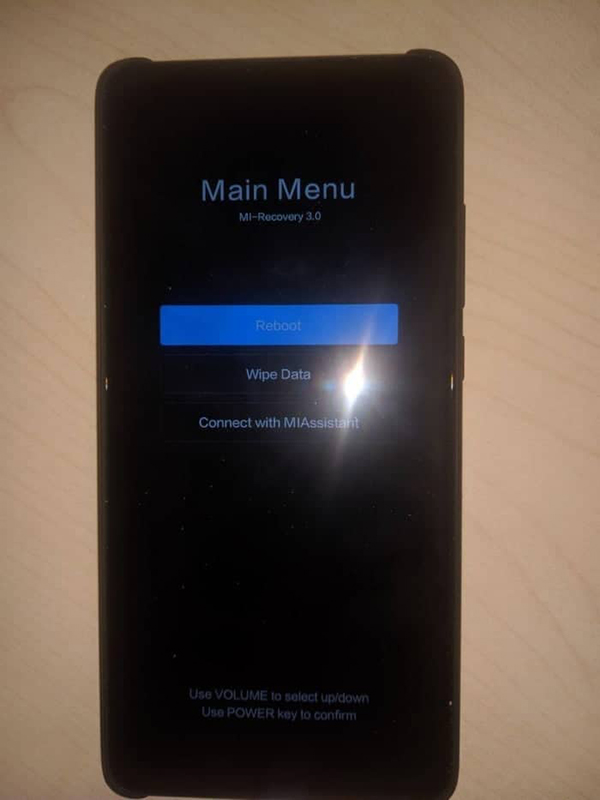phone: (83, 45, 478, 800)
